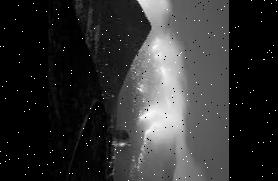fire: (135, 34, 184, 154), (125, 0, 167, 9)
